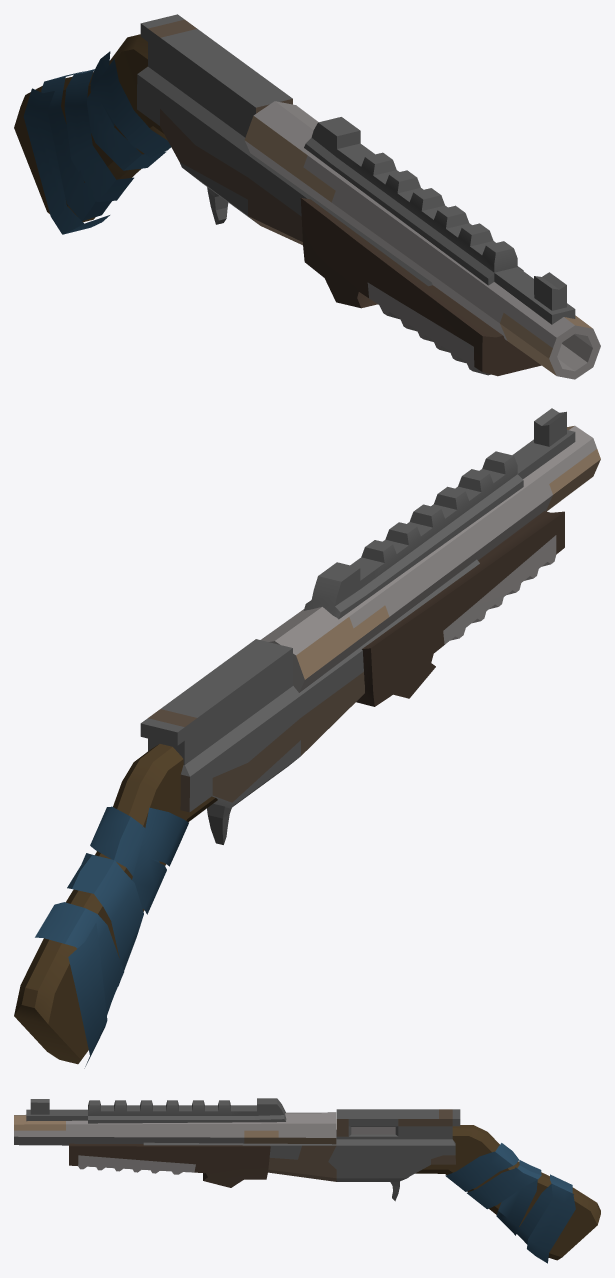
File: Shotgun.glb
The picture shows the model from 3 angles, top to bottom: view 1: azimuth 30°, elevation 25°; view 2: azimuth 150°, elevation 25°; view 3: azimuth 270°, elevation 25°; orthographic projection. The views are drawn at different scales.
Visible parts, largest first — view 1: Shotgun; view 2: Shotgun; view 3: Shotgun.
Part boxes in pixels (x1,y1,x2,y2): Shotgun: (14, 14, 600, 379); Shotgun: (14, 408, 600, 1068); Shotgun: (14, 1098, 600, 1263).
Bounding box in the file's own units: 0.0952 × 0.3382 × 1.11.
1 material, 1 textured.
